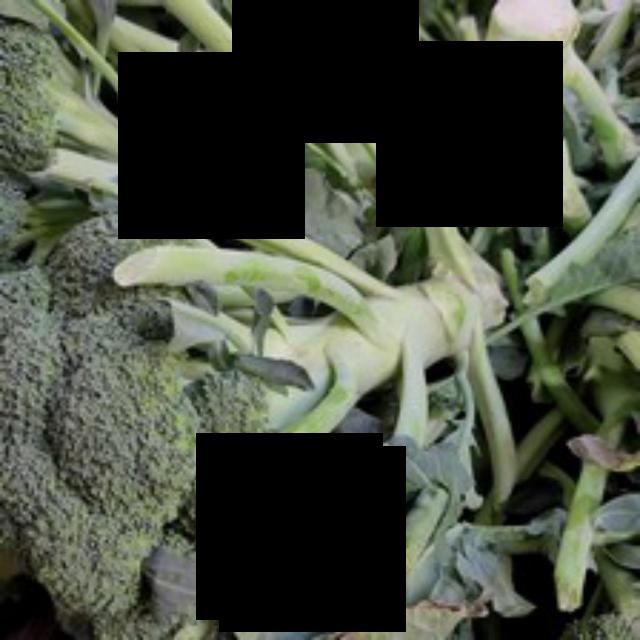broccoli: (0, 177, 354, 634)
